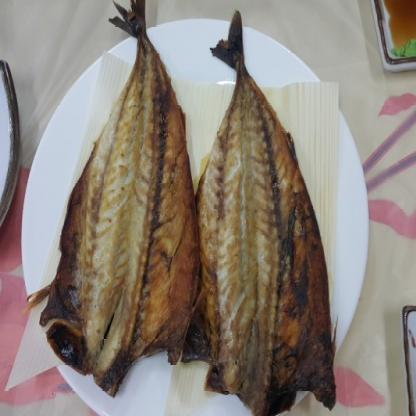Peixe: (28, 0, 330, 413)
